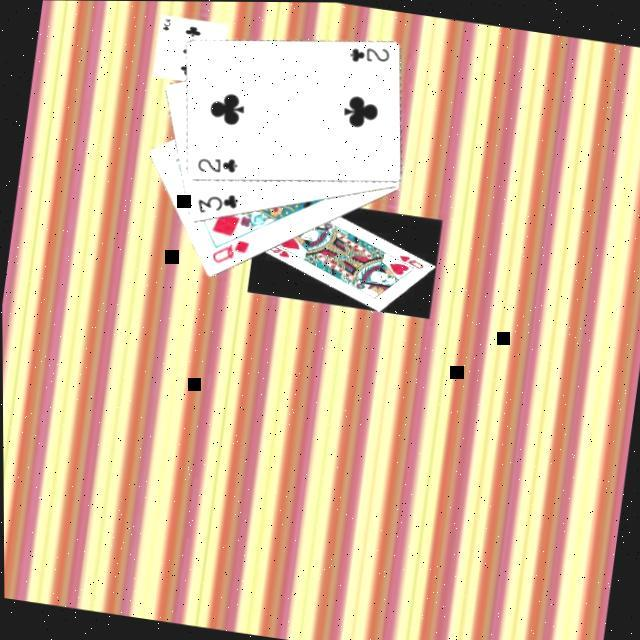2C: (190, 148, 239, 178), (343, 37, 392, 67)
3C: (190, 184, 240, 218)
QD: (205, 230, 251, 269)
